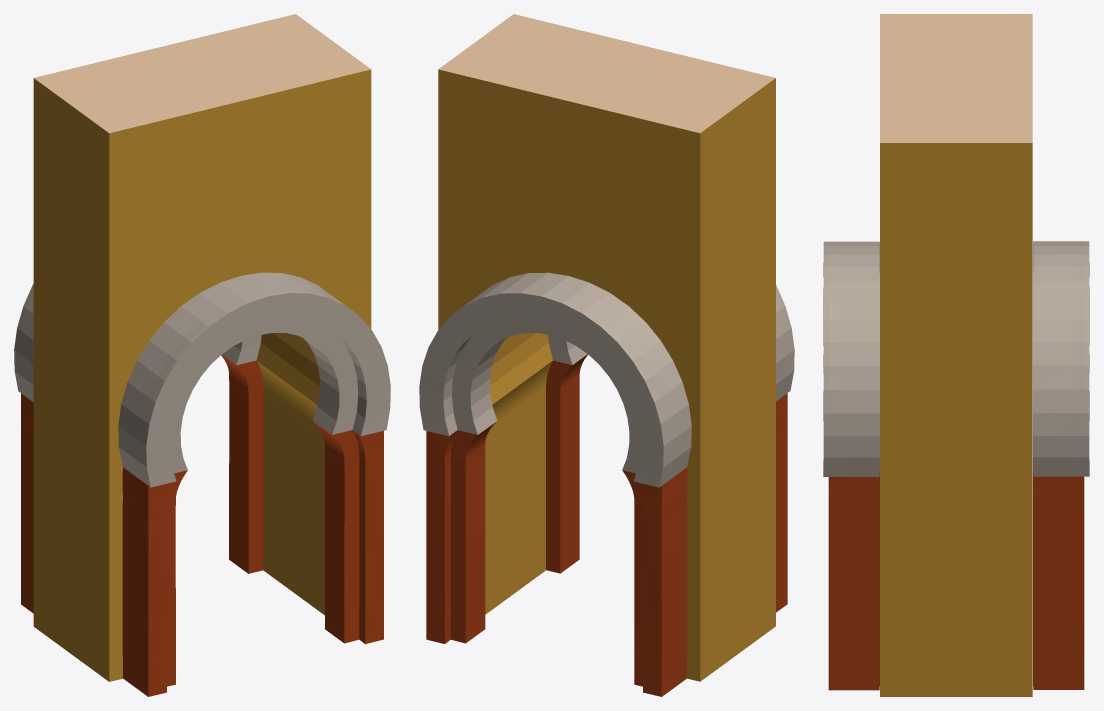
Rendered from Door-v1.fbx.
3 views of the same model, side by side, from view 1: azimuth 30°, elevation 25°; view 2: azimuth 150°, elevation 25°; view 3: azimuth 270°, elevation 25° (orthographic).
Visible parts, largest first — view 1: Wall with door v1, ArcFrame.001, ArcFrame.002; view 2: Wall with door v1, ArcFrame.002, ArcFrame.001; view 3: Wall with door v1, ArcFrame.001, ArcFrame.002.
Part boxes in pixels (<box>): Wall with door v1: <box>33,14,371,681</box>; ArcFrame.001: <box>118,272,390,696</box>; ArcFrame.002: <box>14,284,263,613</box>; Wall with door v1: <box>438,14,775,681</box>; ArcFrame.002: <box>419,272,691,696</box>; ArcFrame.001: <box>546,285,794,612</box>; Wall with door v1: <box>880,14,1032,696</box>; ArcFrame.001: <box>823,241,879,690</box>; ArcFrame.002: <box>1033,241,1089,689</box>.
Size of the model in its own units: 200 by 400 by 174.
